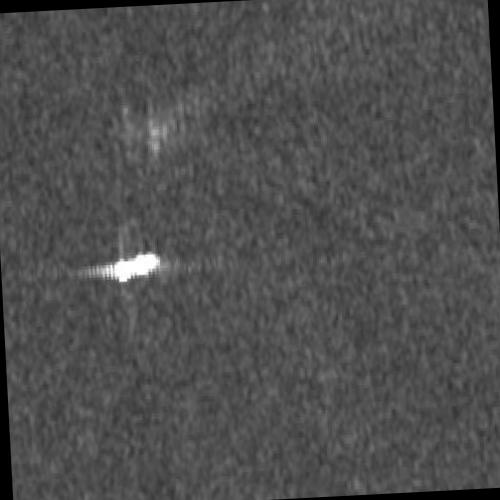ship: (107, 250, 160, 281)
